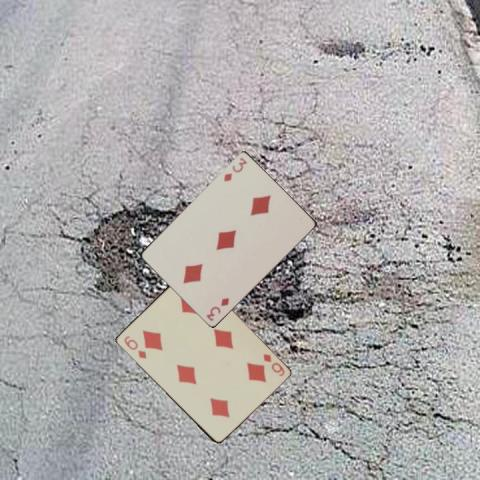3d: (220, 154, 248, 183), (203, 294, 231, 322)
6d: (121, 333, 147, 360), (260, 351, 285, 377)
